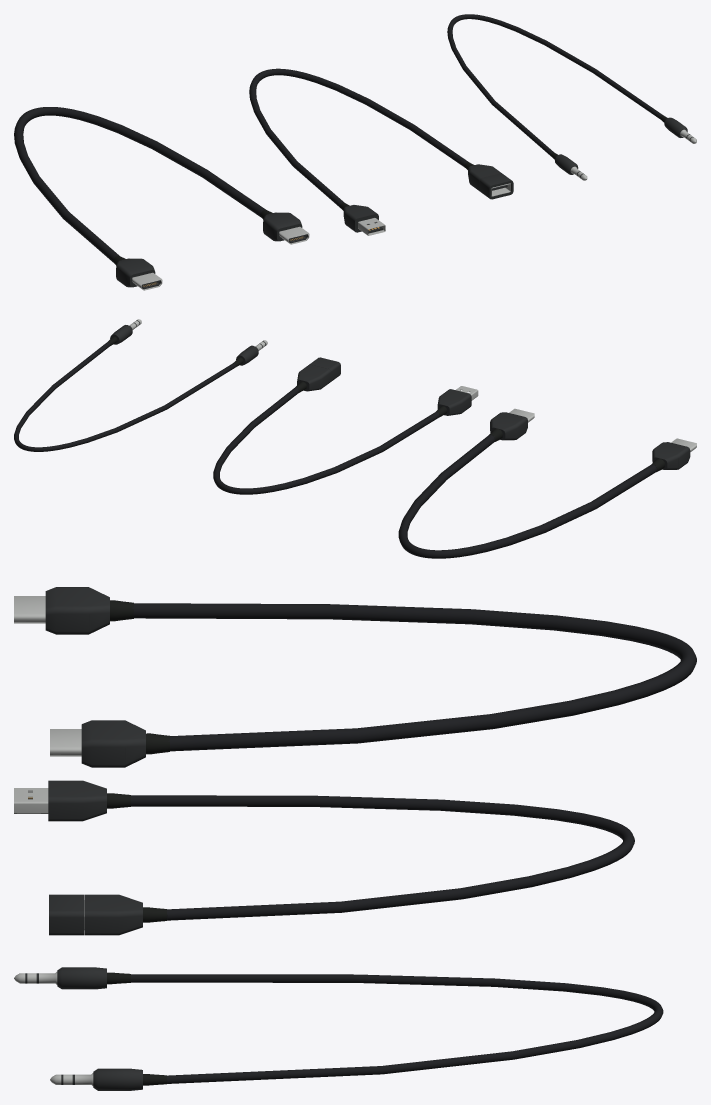
Rendered from ExternalCables_LOD0.fbx.
The picture shows the model from 3 angles, top to bottom: view 1: azimuth 30°, elevation 25°; view 2: azimuth 150°, elevation 25°; view 3: azimuth 270°, elevation 25°; orthographic projection. The views are drawn at different scales.
Parts seen in each view (by area): view 1: HDMI_LOD0, USB_Extension_LOD0, Audio_TRS_LOD0; view 2: HDMI_LOD0, USB_Extension_LOD0, Audio_TRS_LOD0; view 3: HDMI_LOD0, USB_Extension_LOD0, Audio_TRS_LOD0.
Part boxes in pixels (<box>): HDMI_LOD0: <box>14,107,309,290</box>; USB_Extension_LOD0: <box>249,68,513,235</box>; Audio_TRS_LOD0: <box>447,14,696,180</box>; HDMI_LOD0: <box>398,408,696,558</box>; USB_Extension_LOD0: <box>213,357,478,494</box>; Audio_TRS_LOD0: <box>14,319,267,451</box>; HDMI_LOD0: <box>14,587,696,767</box>; USB_Extension_LOD0: <box>14,780,634,935</box>; Audio_TRS_LOD0: <box>14,967,663,1090</box>.
Size of the model in its own units: 0.3831 by 0.0147 by 0.2277.
